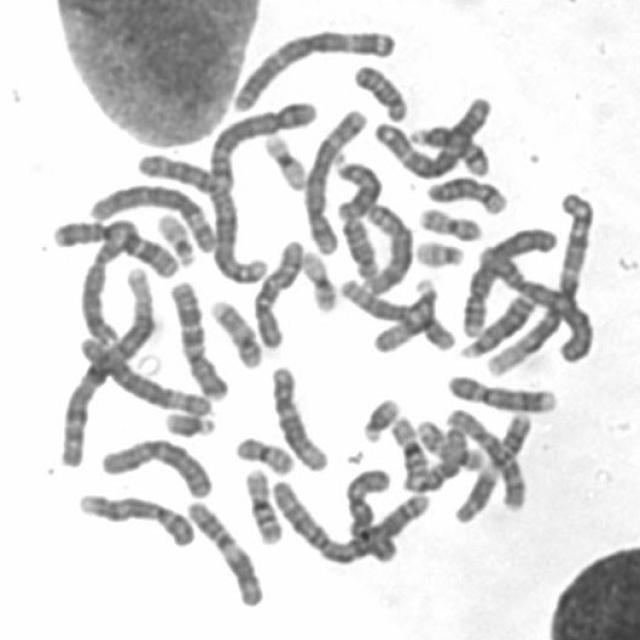A1: (52, 259, 159, 469), (481, 196, 599, 376)
A2: (137, 152, 268, 287), (264, 470, 432, 566)
A3: (224, 21, 400, 114), (367, 92, 493, 182)
B4: (473, 232, 599, 365), (456, 221, 560, 342)
B5: (207, 94, 326, 194), (296, 101, 369, 257)
C10: (440, 402, 532, 514), (248, 232, 306, 350)
C11: (446, 404, 535, 523), (181, 494, 266, 608)
C12: (333, 270, 459, 353), (266, 359, 331, 473)
C6: (74, 328, 216, 418), (83, 177, 220, 256)
C7: (46, 212, 181, 280), (164, 272, 232, 402)
C8: (75, 213, 140, 348), (356, 196, 417, 297)
C9: (72, 485, 198, 550), (442, 368, 559, 413)
D13: (455, 287, 539, 360), (328, 151, 384, 221)
D14: (407, 119, 491, 179), (420, 170, 510, 217)
D15: (368, 273, 441, 355), (399, 421, 472, 493)
E16: (239, 461, 286, 545), (387, 410, 432, 481)
E17: (409, 414, 487, 472), (206, 293, 264, 370)
E18: (349, 57, 412, 123), (337, 211, 381, 281)
F19: (258, 127, 312, 191), (296, 244, 339, 314)
F20: (229, 429, 297, 477), (413, 201, 485, 242)
G21: (356, 391, 404, 444), (159, 405, 220, 439)
G22: (152, 206, 199, 266), (409, 234, 468, 269)
X: (96, 431, 216, 501)
